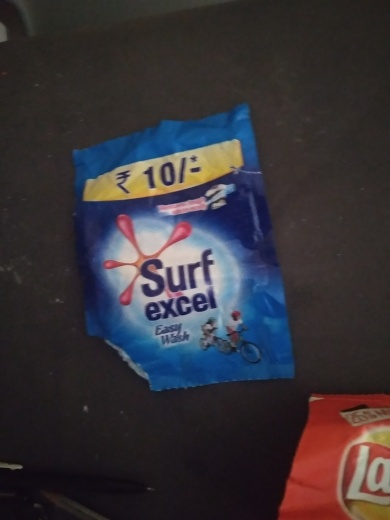lays: (267, 385, 389, 520)
surf: (55, 135, 299, 392)
